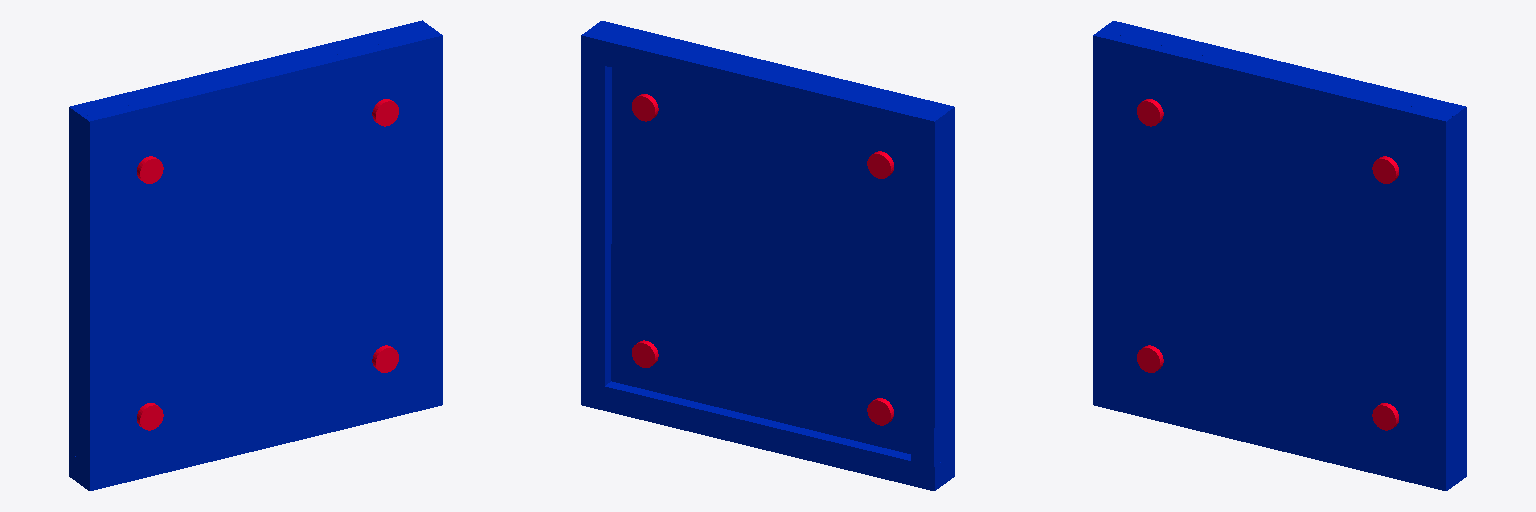
The robot description file, URDF, robot "cup":
<?xml version="1.0"?>
<robot name="cup">


  <!-- Link representing the blade of the shovel -->
  <link name="base_link">
    <visual>
      <geometry>
        <box size="0.3 0.02 0.3"/>
      </geometry>
      <material name="silver">
        <color rgba="0.0 0.2 0.8 0.5"/>
      </material>
    </visual>
    <collision>
      <geometry>
        <box size="0.3 0.02 0.3"/>
      </geometry>
    </collision>
    <inertial>
      <mass value="0.2"/>
      <origin rpy="0 0 0" xyz="0.0 0.0 -0.025"/>
      <inertia ixx="0.0001" ixy="0.0" ixz="0.0" iyy="0.0001" iyz="0.0" izz="0.0002"/>
    </inertial>
  </link>  <!-- Link representing the blade of the shovel -->

  <link name="blade_link_side1">
    <visual>
      <geometry>
        <box size="0.3 0.02 0.02"/>
      </geometry>
      <material name="silver">
        <color rgba="0.0 0.2 0.8 0.5"/>
      </material>
    </visual>
    <collision>
      <geometry>
        <box size="0.3 0.02 0.02"/>
      </geometry>
    </collision>
    <inertial>
      <mass value="0.2"/>
      <origin rpy="0 0 0" xyz="0.0 0.0 -0.025"/>
      <inertia ixx="0.0001" ixy="0.0" ixz="0.0" iyy="0.0001" iyz="0.0" izz="0.0002"/>
    </inertial>
  </link>

  <link name="blade_link_side2">
    <visual>
      <geometry>
        <box size="0.3 0.02 0.02"/>
      </geometry>
      <material name="silver">
        <color rgba="0.0 0.2 0.8 0.5"/>
      </material>
    </visual>
    <collision>
      <geometry>
        <box size="0.3 0.02 0.02"/>
      </geometry>
    </collision>
    <inertial>
      <mass value="0.2"/>
      <origin rpy="0 0 0" xyz="0.0 0.0 -0.025"/>
      <inertia ixx="0.0001" ixy="0.0" ixz="0.0" iyy="0.0001" iyz="0.0" izz="0.0002"/>
    </inertial>
  </link>

  <link name="blade_link_bot">
    <visual>
      <geometry>
        <box size="0.3 0.02 0.02"/>
      </geometry>
      <material name="silver">
        <color rgba="0.0 0.2 0.8 0.5"/>
      </material>
    </visual>
    <collision>
      <geometry>
        <box size="0.3 0.02 0.02"/>
      </geometry>
    </collision>
    <inertial>
      <mass value="0.2"/>
      <origin rpy="0 0 0" xyz="0.0 0.0 -0.025"/>
      <inertia ixx="0.0001" ixy="0.0" ixz="0.0" iyy="0.0001" iyz="0.0" izz="0.0002"/>
    </inertial>
  </link>

  <link name="blade_link_bot2">
    <visual>
      <geometry>
        <box size="0.3 0.02 0.02"/>
      </geometry>
      <material name="silver">
        <color rgba="0.0 0.2 0.8 0.5"/>
      </material>
    </visual>
    <collision>
      <geometry>
        <box size="0.3 0.02 0.02"/>
      </geometry>
    </collision>
    <inertial>
      <mass value="0.2"/>
      <origin rpy="0 0 0" xyz="0.0 0.0 -0.025"/>
      <inertia ixx="0.0001" ixy="0.0" ixz="0.0" iyy="0.0001" iyz="0.0" izz="0.0002"/>
    </inertial>
  </link>


  <joint name="joint_base_blade_side1" type="fixed">
    <parent link="base_link"/>
    <child link="blade_link_side1"/>
    <origin rpy="1.57 0 0" xyz="0.0 0.01 0.14"/>
  </joint>

  <joint name="joint_base_blade_side2" type="fixed">
    <parent link="base_link"/>
    <child link="blade_link_side2"/>
    <origin rpy="1.57 0 0" xyz="0.0 0.01 -0.14"/>
  </joint>

  <joint name="joint_base_blade_bot" type="fixed">
    <parent link="base_link"/>
    <child link="blade_link_bot"/>
    <origin rpy="1.57 1.57 0" xyz="0.14 0.01 0"/>
  </joint>

  <joint name="joint_base_blade_bot2" type="fixed">
    <parent link="base_link"/>
    <child link="blade_link_bot2"/>
    <origin rpy="1.57 1.57 0" xyz="-0.14 0.01 0"/>
  </joint>


  <!-- 定义一个名为 "cylinder_link" 的链接 -->
  <link name="cylinder_link1">
    <!-- 描述圆柱体的外观 -->
    <visual>
      <geometry>
        <!-- 定义圆柱体 -->
        <cylinder radius="0.01" length="0.03"/> <!-- 修改这里的半径和高度以适应你的需求 -->
      </geometry>
      <material name="hhh">
        <color rgba="1 0.0 0.2 0.5"/>
      </material>
    </visual>
    <!-- 描述圆柱体的碰撞模型 -->
    <collision>
      <geometry>
        <!-- 通常与可视化模型相同 -->
        <cylinder radius="0.01" length="0.0"/>
      </geometry>
    </collision>
  </link>
  <link name="cylinder_link2">
    <!-- 描述圆柱体的外观 -->
    <visual>
      <geometry>
        <!-- 定义圆柱体 -->
        <cylinder radius="0.01" length="0.03"/> <!-- 修改这里的半径和高度以适应你的需求 -->
      </geometry>
      <material name="hhh">
        <color rgba="1 0.0 0.2 0.5"/>
      </material>
    </visual>
    <!-- 描述圆柱体的碰撞模型 -->
    <collision>
      <geometry>
        <!-- 通常与可视化模型相同 -->
        <cylinder radius="0.01" length="0.0"/>
      </geometry>
    </collision>
  </link>
  <link name="cylinder_link3">
    <!-- 描述圆柱体的外观 -->
    <visual>
      <geometry>
        <!-- 定义圆柱体 -->
        <cylinder radius="0.01" length="0.03"/> <!-- 修改这里的半径和高度以适应你的需求 -->
      </geometry>
      <material name="hhh">
        <color rgba="1 0.0 0.2 0.5"/>
      </material>
    </visual>
    <!-- 描述圆柱体的碰撞模型 -->
    <collision>
      <geometry>
        <!-- 通常与可视化模型相同 -->
        <cylinder radius="0.01" length="0.0"/>
      </geometry>
    </collision>
  </link>
  <link name="cylinder_link4">
    <!-- 描述圆柱体的外观 -->
    <visual>
      <geometry>
        <!-- 定义圆柱体 -->
        <cylinder radius="0.01" length="0.03"/> <!-- 修改这里的半径和高度以适应你的需求 -->
      </geometry>
      <material name="hhh">
        <color rgba="1 0.0 0.2 0.5"/>
      </material>
    </visual>
    <!-- 描述圆柱体的碰撞模型 -->
    <collision>
      <geometry>
        <!-- 通常与可视化模型相同 -->
        <cylinder radius="0.01" length="0.0"/>
      </geometry>
    </collision>
  </link>
  
  <joint name="hole_base_joint1" type="fixed">
    <parent link="base_link"/>
    <child link="cylinder_link1"/>
    <origin rpy="1.57 0 0 " xyz="0.1 0.0 0.1 "/>
  </joint>
  <joint name="hole_base_joint2" type="fixed">
    <parent link="base_link"/>
    <child link="cylinder_link2"/>
    <origin rpy="1.57 0 0" xyz="-0.1 0.0 0.1"/>
  </joint>
  <joint name="hole_base_joint3" type="fixed">
    <parent link="base_link"/>
    <child link="cylinder_link3"/>
    <origin rpy="1.57 0 0" xyz="0.1 0.0 -0.1"/>
  </joint>
  <joint name="hole_base_joint4" type="fixed">
    <parent link="base_link"/>
    <child link="cylinder_link4"/>
    <origin rpy="1.57 0 0" xyz="-0.1 0.0 -0.1"/>
  </joint>



</robot>

--- What the picture shows (computed from the rendered views, not written in the file) ---
3 views of the same robot in one strip: view 1: azimuth 30°, elevation 25°; view 2: azimuth 150°, elevation 25°; view 3: azimuth 330°, elevation 25° (orthographic).
Robot: cup — 9 links, 8 joints (8 fixed); root link base_link; default pose: all joints at 0.
Visible links, largest first — view 1: base_link, blade_link_side1, blade_link_bot2, cylinder_link2, cylinder_link4, cylinder_link3, cylinder_link1; view 2: base_link, blade_link_side1, blade_link_bot2, blade_link_bot, blade_link_side2, cylinder_link2, cylinder_link1, cylinder_link3, cylinder_link4; view 3: base_link, blade_link_side1, blade_link_bot, cylinder_link1, cylinder_link3, cylinder_link4, cylinder_link2.
Boxes of the visible links, x1,y1,x2,y2 form: base_link: (76, 31, 442, 490); blade_link_side1: (70, 20, 435, 115); blade_link_bot2: (69, 101, 105, 455); cylinder_link2: (137, 156, 163, 183); cylinder_link4: (137, 403, 163, 430); cylinder_link3: (372, 345, 398, 372); cylinder_link1: (372, 99, 398, 126); base_link: (595, 21, 954, 480); blade_link_side1: (582, 26, 946, 145); blade_link_bot2: (911, 106, 947, 490); blade_link_bot: (581, 26, 611, 410); blade_link_side2: (582, 381, 947, 490); cylinder_link2: (867, 151, 893, 178); cylinder_link1: (632, 94, 658, 121); cylinder_link3: (632, 340, 658, 367); cylinder_link4: (867, 398, 893, 425); base_link: (1093, 31, 1459, 490); blade_link_side1: (1100, 21, 1466, 136); blade_link_bot: (1444, 101, 1466, 485); cylinder_link1: (1372, 156, 1398, 183); cylinder_link3: (1372, 403, 1398, 430); cylinder_link4: (1137, 345, 1163, 372); cylinder_link2: (1137, 99, 1163, 126).
Size in the robot's own frame: 0.3003 by 0.035 by 0.3 metres.
Geometry: primitives only (box / cylinder / sphere), no mesh files.